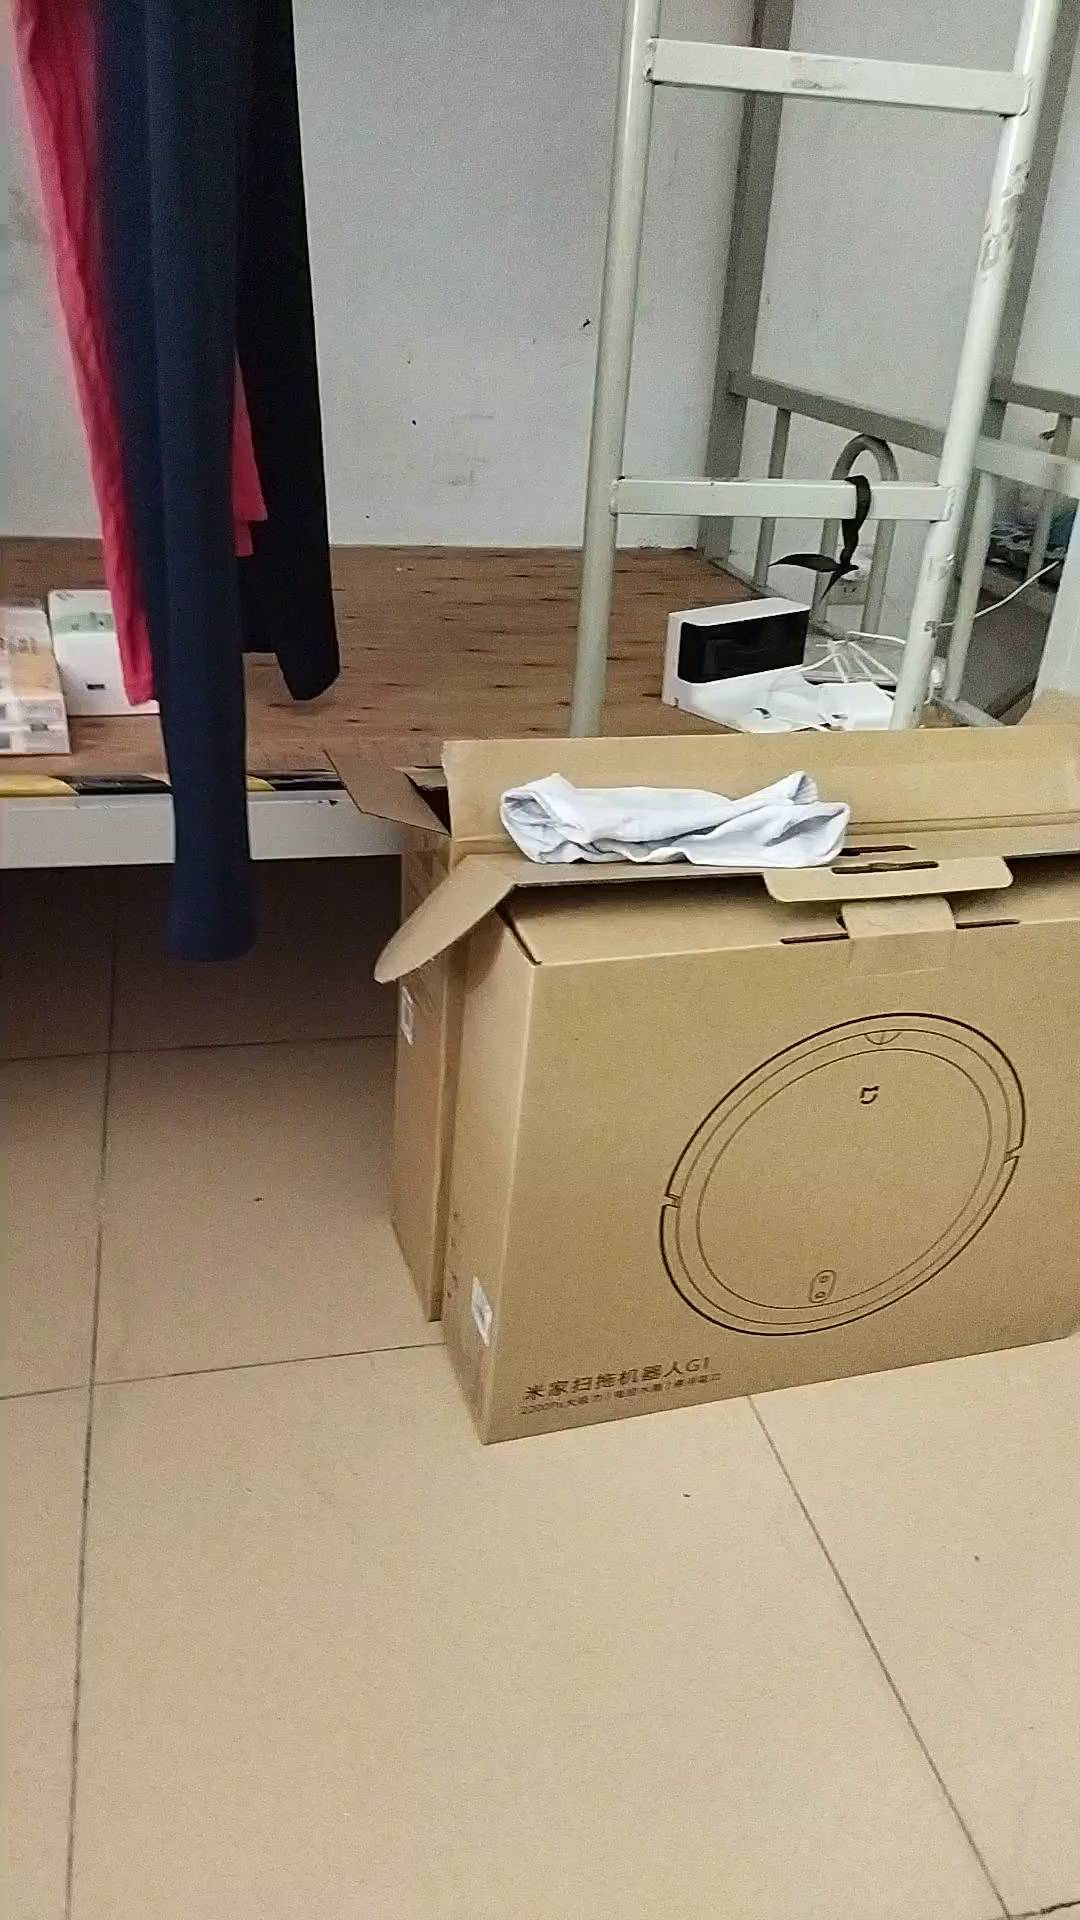recharge seat: (657, 593, 836, 731)
